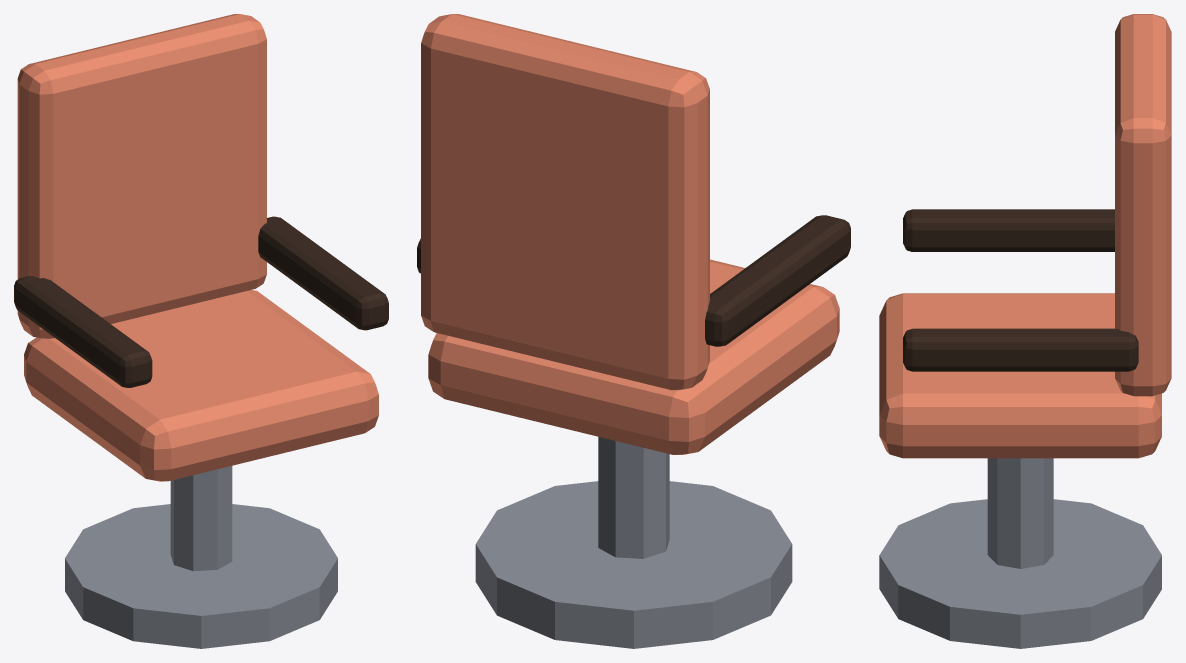
File: int_kursiCukur.fbx
3 views of the same model, side by side, from view 1: azimuth 30°, elevation 25°; view 2: azimuth 150°, elevation 25°; view 3: azimuth 270°, elevation 25° (orthographic). The views are drawn at different scales.
Parts seen in each view (by area): view 1: int_kursiCukur; view 2: int_kursiCukur; view 3: int_kursiCukur.
Boxes of the visible parts, <box> form: int_kursiCukur: <box>14,14,388,648</box>; int_kursiCukur: <box>417,14,850,648</box>; int_kursiCukur: <box>879,14,1171,648</box>.
Bounding box in the file's own units: 68 × 122 × 62.
1 material, 1 textured.
